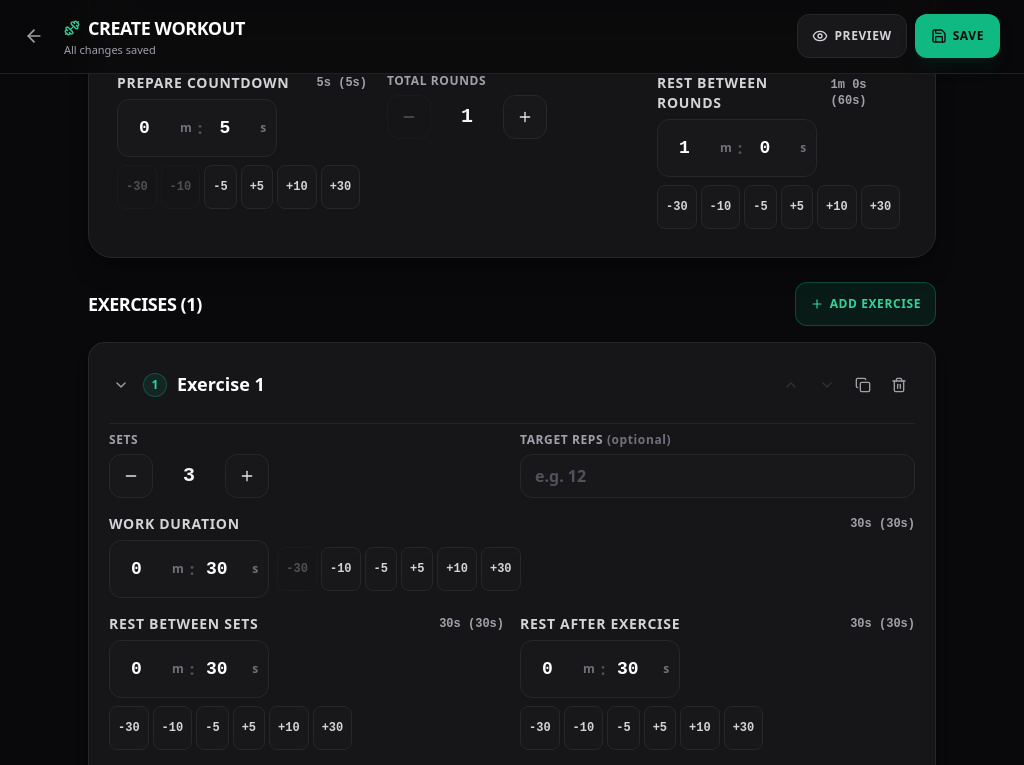
WorkoutBuilder Component › allows duplicating an exercise
(page scrolled)
Replace the text in the field with placeholder "Exercise Name (e.g. Push-ups)" with "Push-ups" at (472, 384), box [177,362,767,406]
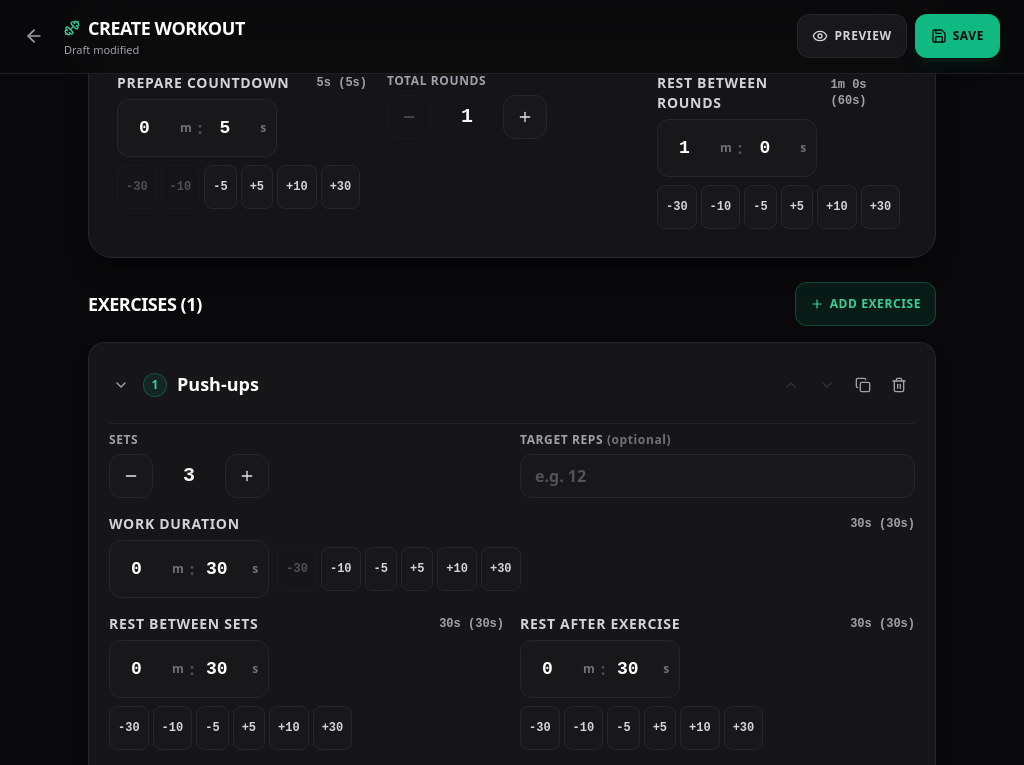
Click the button named "duplicate exercise 1" at (863, 384), box [847,362,879,406]
(page scrolled)
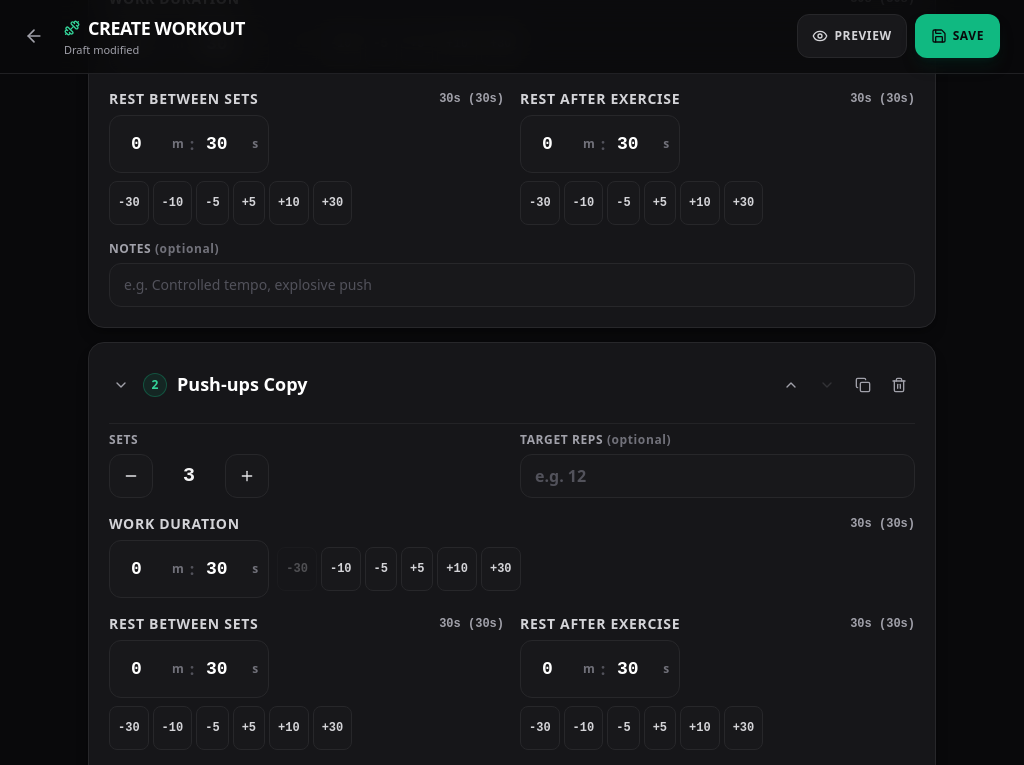
Expected: the number of fields with placeholder "exercise name" is 2
Expected: the field with placeholder "Exercise Name (e.g. Push-ups)" holds "Push-ups Copy", [177,362,767,406]
